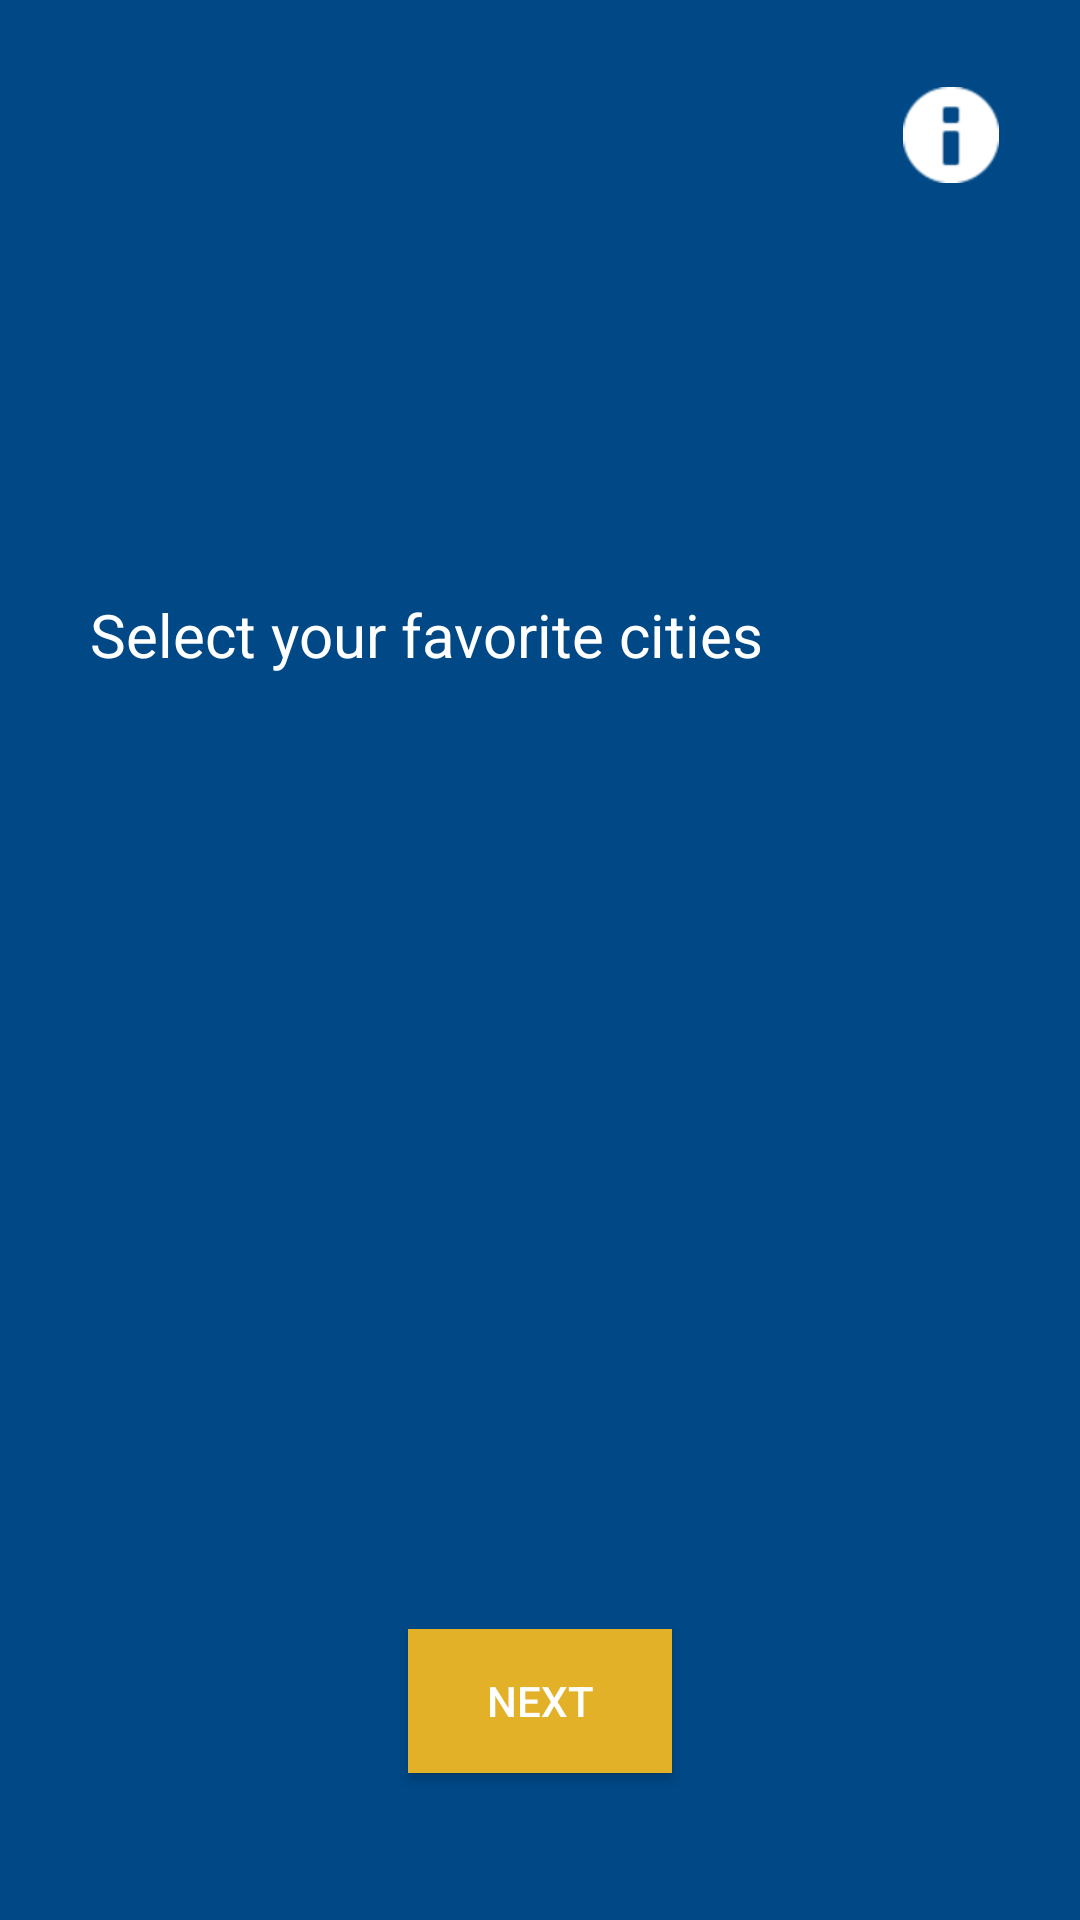

Locate icon controls on the screen. Image size 1080w x 1920h, boxes as (x1, y1, x2, y2).
info: (903, 87, 999, 183)
